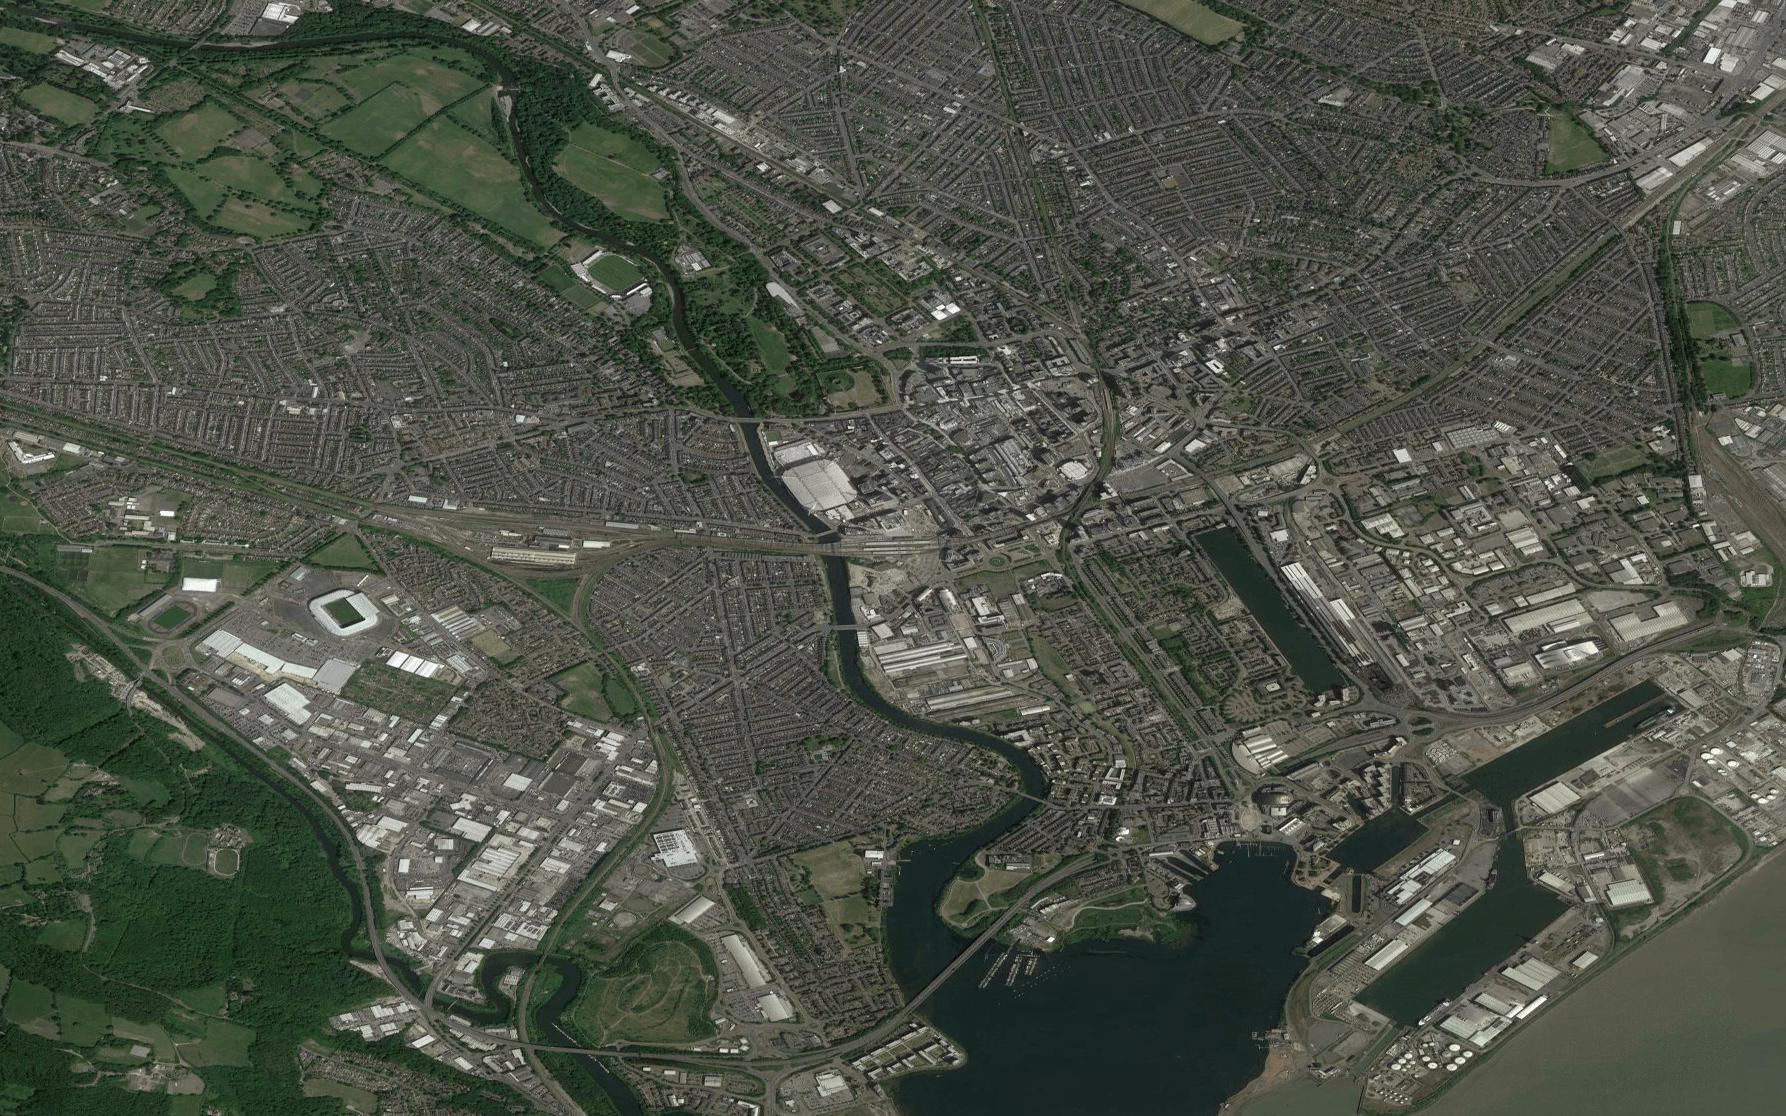bridge: (919, 936, 988, 1003), (1012, 786, 1051, 807), (825, 622, 867, 635), (732, 413, 761, 426)
harbor: (1150, 825, 1345, 962)
industrial: (211, 627, 576, 921), (1326, 462, 1668, 676), (1603, 1, 1786, 185)
motorway: (895, 906, 1018, 1021), (495, 1026, 735, 1068), (741, 1012, 895, 1077), (301, 784, 375, 894), (1, 564, 114, 636), (112, 638, 216, 712), (201, 711, 305, 786), (356, 894, 420, 999)
train_station: (833, 525, 941, 563)
